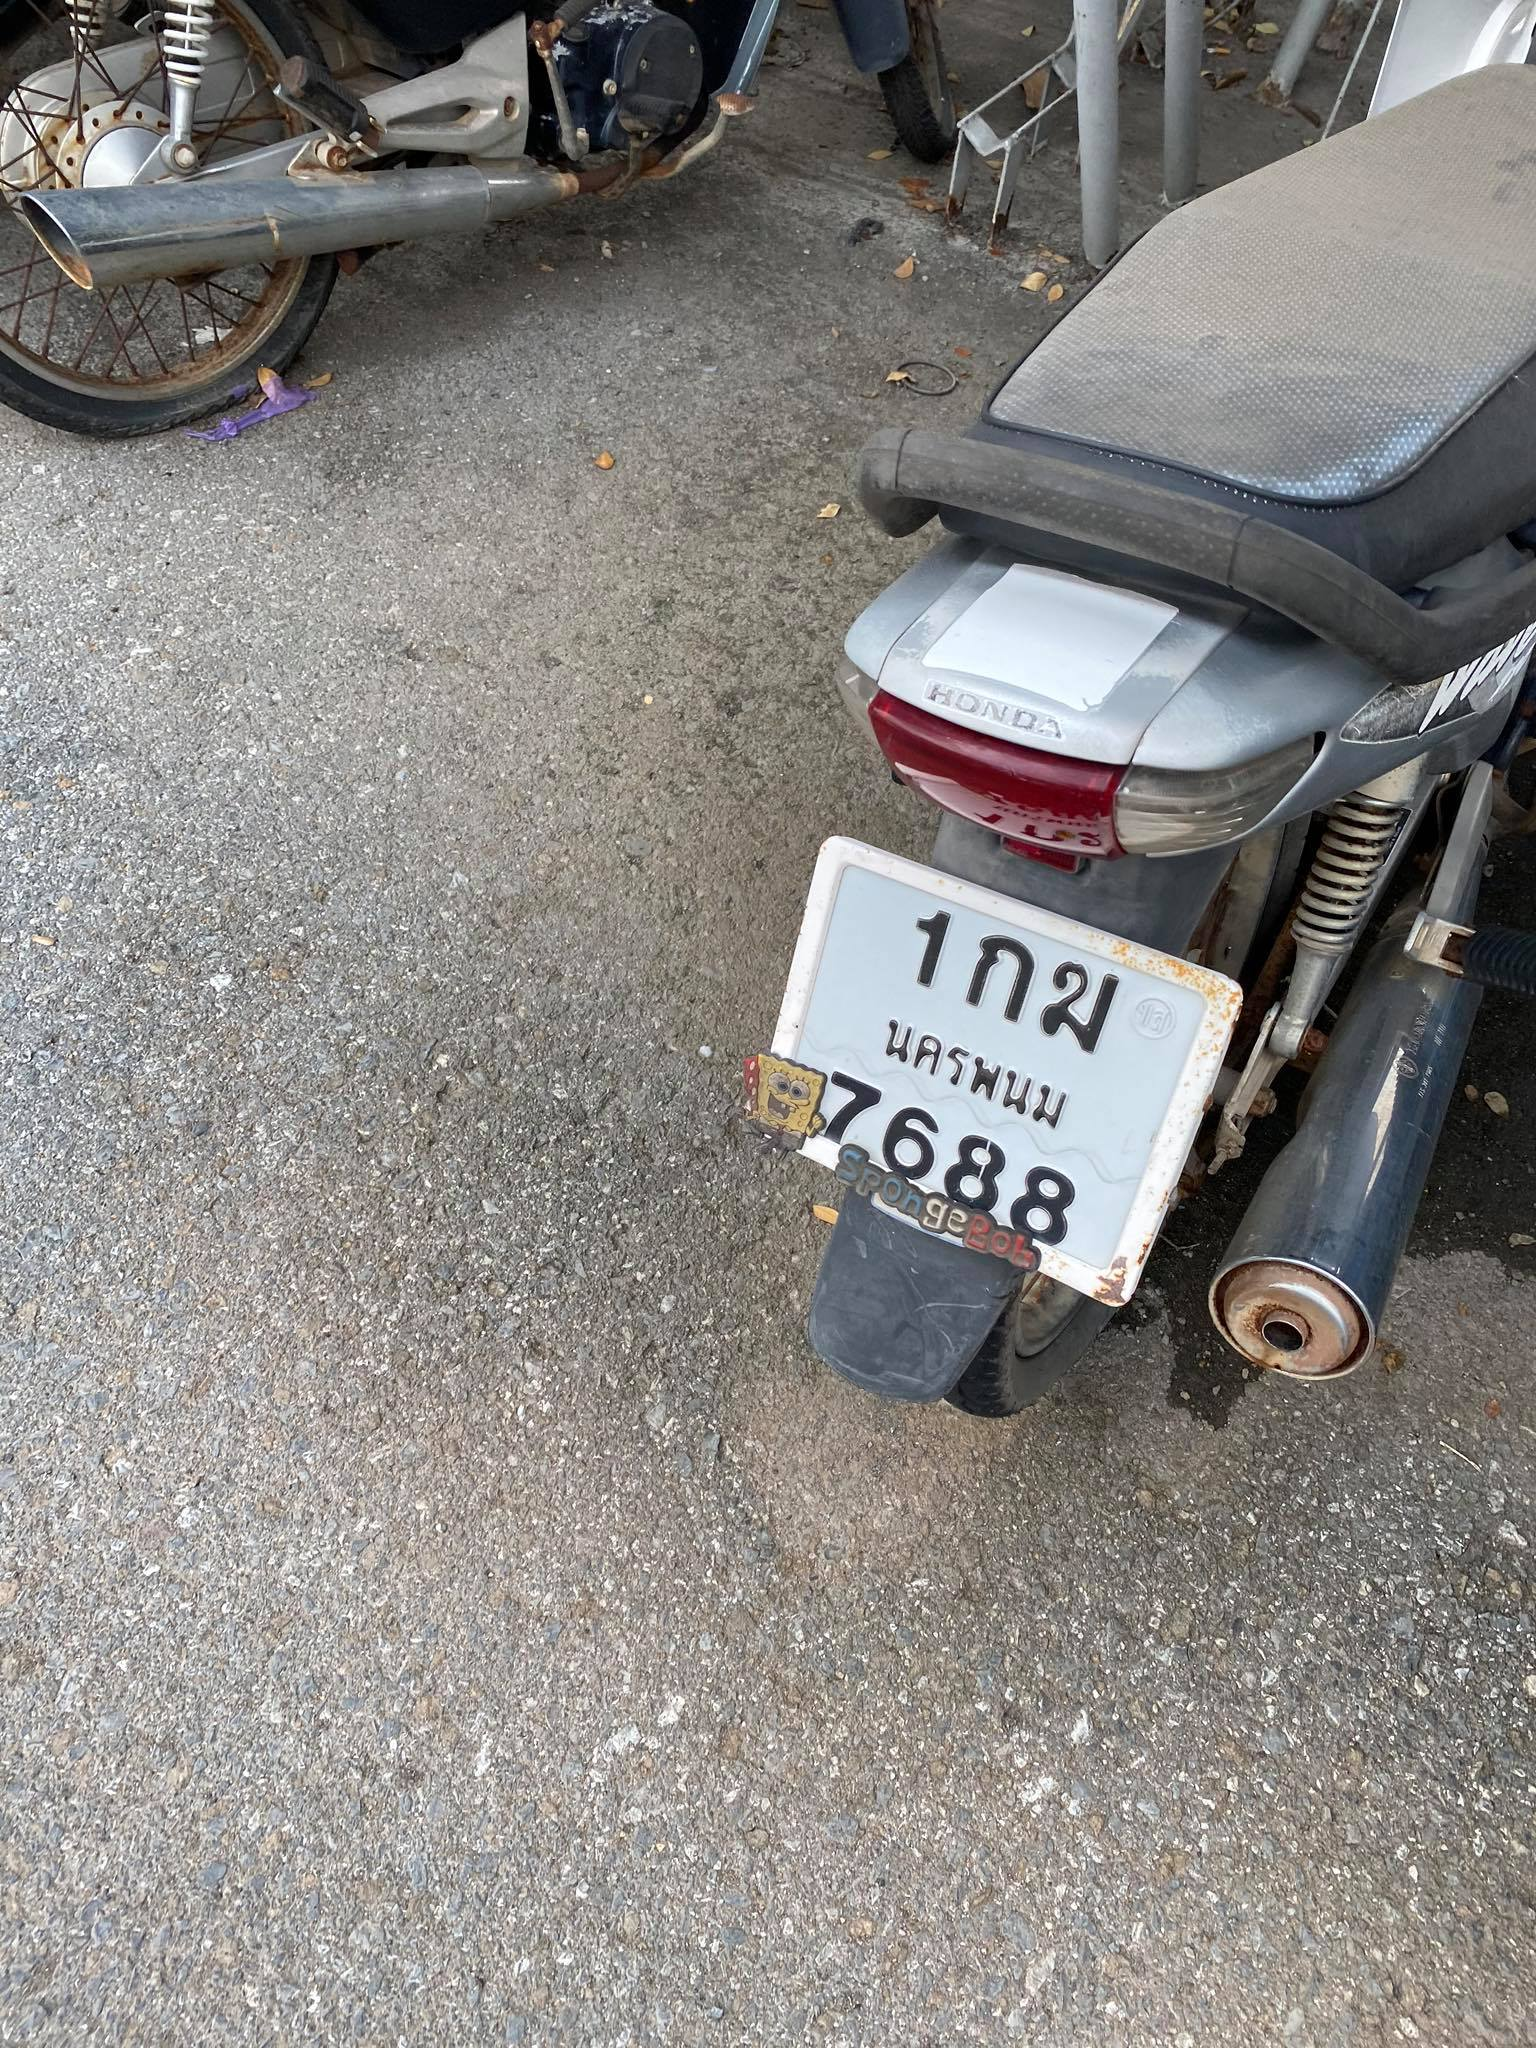line1: (900, 884, 1133, 1055)
line2: (850, 1001, 1120, 1130)
line3: (794, 1061, 1117, 1255)
